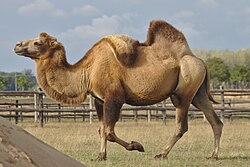camel: (12, 20, 222, 162)
